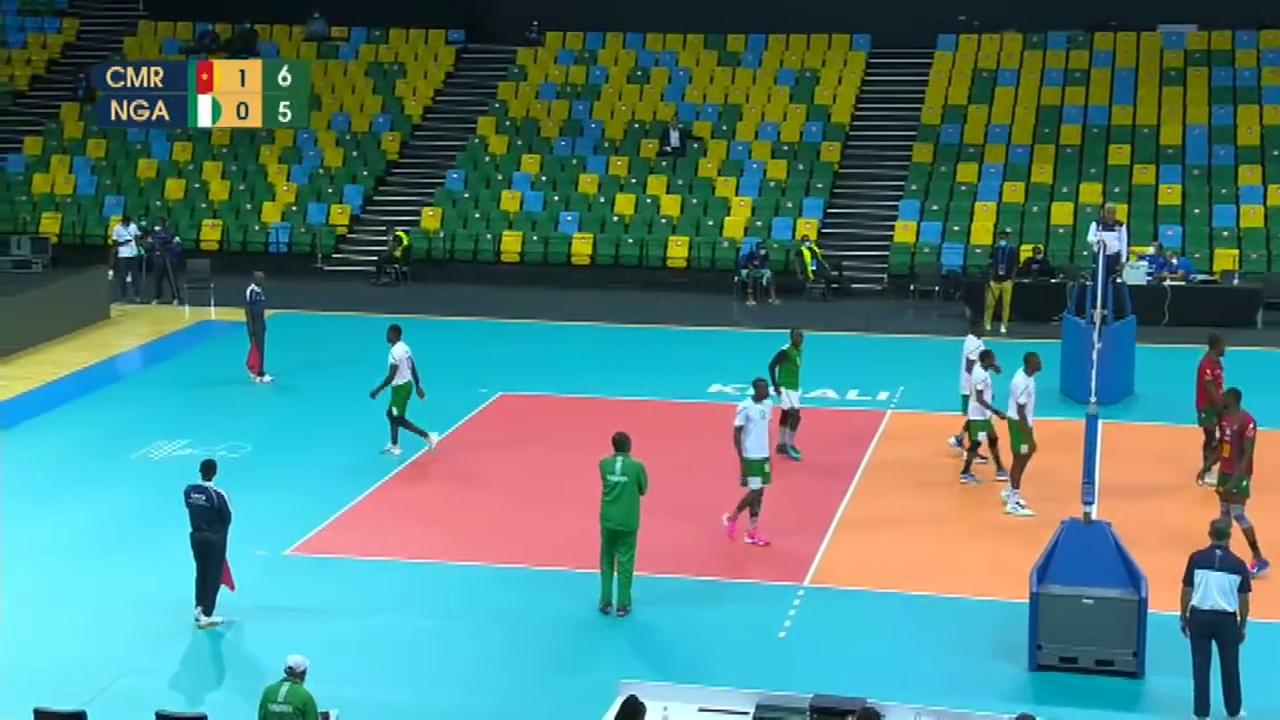player: (1200, 390, 1268, 584), (723, 380, 783, 545), (954, 347, 1011, 489), (763, 306, 815, 461), (368, 328, 431, 454), (1008, 341, 1047, 526), (1194, 329, 1238, 489), (947, 316, 991, 461)
refree: (1181, 523, 1262, 717), (183, 462, 238, 622), (1091, 201, 1129, 313), (241, 272, 271, 386)
